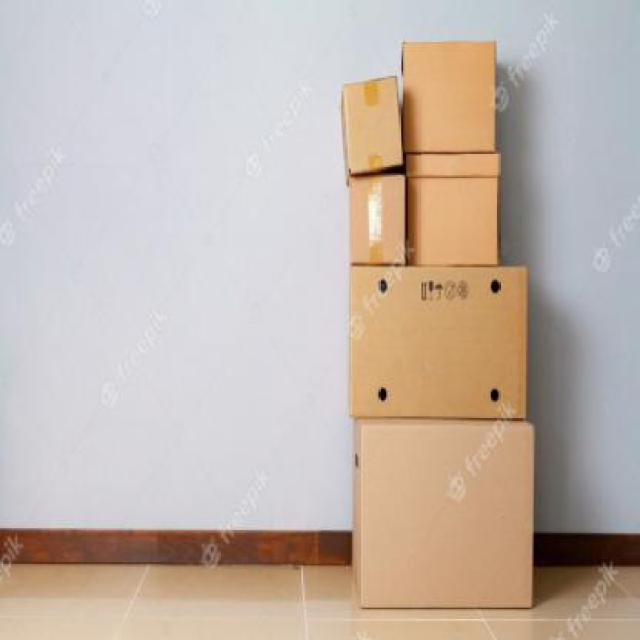box: (347, 419, 536, 608), (352, 265, 530, 425), (395, 29, 507, 156), (405, 157, 506, 266), (338, 66, 405, 178), (344, 175, 414, 266)
